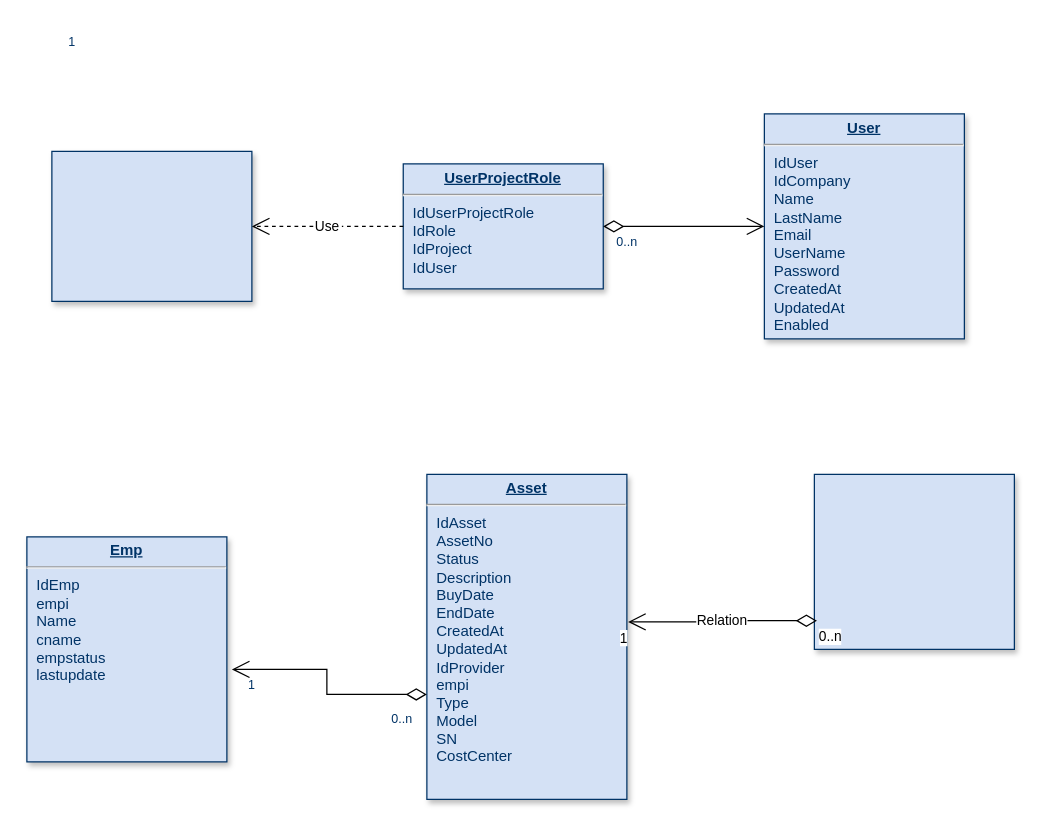
This 1044x831 diagram has some shape labels left out. Here are the shapes that lost their labels. From the top down, the centre of each, then its label:
point 152,227: Role IdCompany Name Description CreatedAt UpdatedAt Enabled
point 915,563: AssetHistory IdHistory AssetNo LastStatus Description RecDate UpdatedAt
